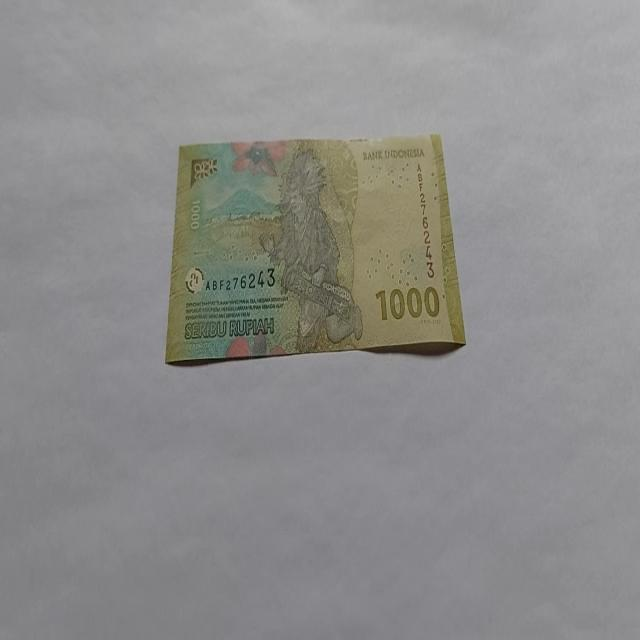seribu rupiah kertas: (164, 132, 466, 366)
